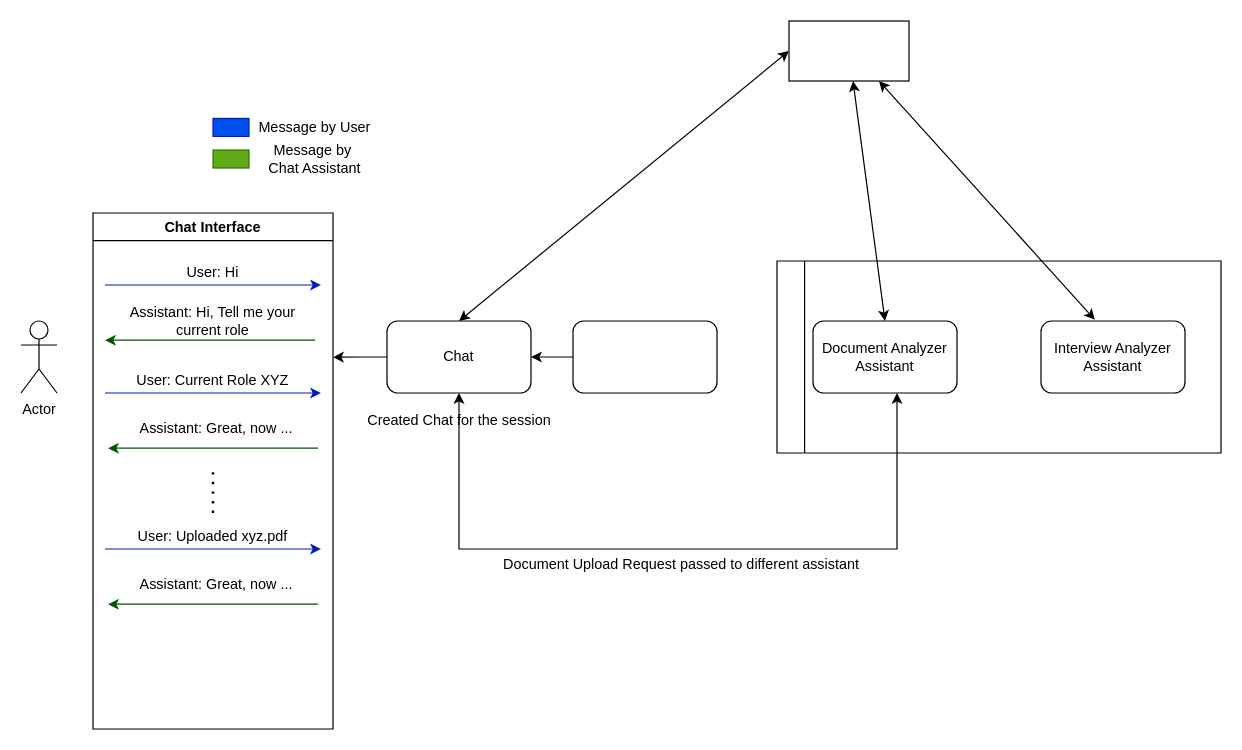
Some shapes in this 1242 by 750 pixel diagram are drawn without their labels. Each missing label, with the centre of its shape:
"Azure Service" goes at (x=848, y=50).
"Chat Assistant" goes at (x=644, y=356).
"Tool Assistant" goes at (x=998, y=356).
